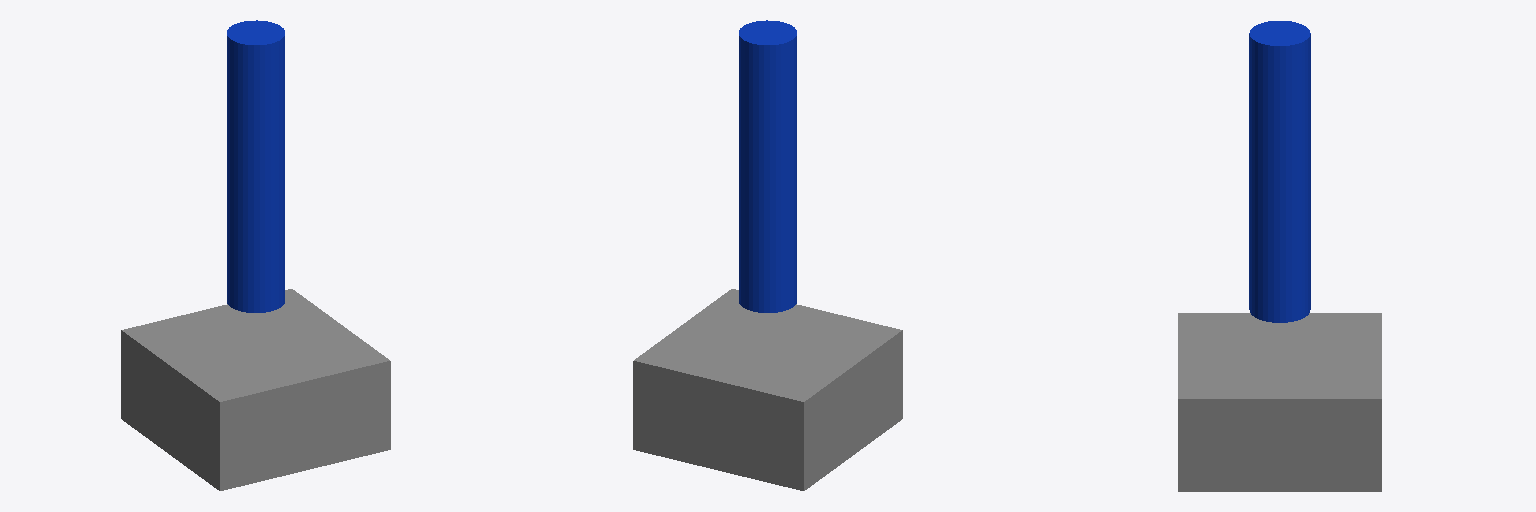
URDF robot description (example_arm):
<?xml version="1.0"?>
<robot name="example_arm">
  <material name="grey"><color rgba="0.6 0.6 0.6 1"/></material>
  <material name="blue"><color rgba="0.1 0.3 0.8 1"/></material>

  <link name="base">
    <inertial>
      <mass value="2.0"/>
      <origin xyz="0 0 0.05" rpy="0 0 0"/>
      <inertia ixx="0.02" ixy="0" ixz="0" iyy="0.02" iyz="0" izz="0.03"/>
    </inertial>
    <visual>
      <geometry><box size="0.2 0.2 0.1"/></geometry>
      <material name="grey"/>
    </visual>
    <collision>
      <geometry><box size="0.2 0.2 0.1"/></geometry>
    </collision>
  </link>

  <link name="upper_arm">
    <inertial>
      <mass value="0.8"/>
      <origin xyz="0 0 0.15" rpy="0 0 0"/>
      <inertia ixx="0.01" ixy="0" ixz="0" iyy="0.01" iyz="0" izz="0.002"/>
    </inertial>
    <visual>
      <origin xyz="0 0 0.15" rpy="0 0 0"/>
      <geometry><cylinder radius="0.03" length="0.3"/></geometry>
      <material name="blue"/>
    </visual>
    <collision>
      <origin xyz="0 0 0.15" rpy="0 0 0"/>
      <geometry><cylinder radius="0.03" length="0.3"/></geometry>
    </collision>
  </link>

  <joint name="shoulder" type="revolute">
    <parent link="base"/>
    <child link="upper_arm"/>
    <origin xyz="0 0 0.1" rpy="0 0 0"/>
    <axis xyz="0 1 0"/>
    <limit lower="-1.57" upper="1.57" effort="40" velocity="2.0"/>
    <dynamics damping="0.1" friction="0.0"/>
  </joint>
</robot>

--- Facts derived from the render (not from the file) ---
The picture shows the robot from 3 angles, left to right: view 1: azimuth 30°, elevation 25°; view 2: azimuth 150°, elevation 25°; view 3: azimuth 270°, elevation 25°; orthographic projection.
Robot: example_arm — 2 links, 1 joints (1 revolute); root link base; default pose: all joints at 0.
Links seen in each view (by area): view 1: base, upper_arm; view 2: base, upper_arm; view 3: base, upper_arm.
Link boxes in pixels (box(x1,y1,x2,y2)): base: box(121, 289, 390, 490); upper_arm: box(227, 20, 284, 312); base: box(633, 289, 902, 490); upper_arm: box(739, 20, 796, 312); base: box(1178, 313, 1381, 491); upper_arm: box(1249, 21, 1310, 322).
Size in the robot's own frame: 0.2 by 0.2 by 0.45 metres.
Geometry: primitives only (box / cylinder / sphere), no mesh files.
